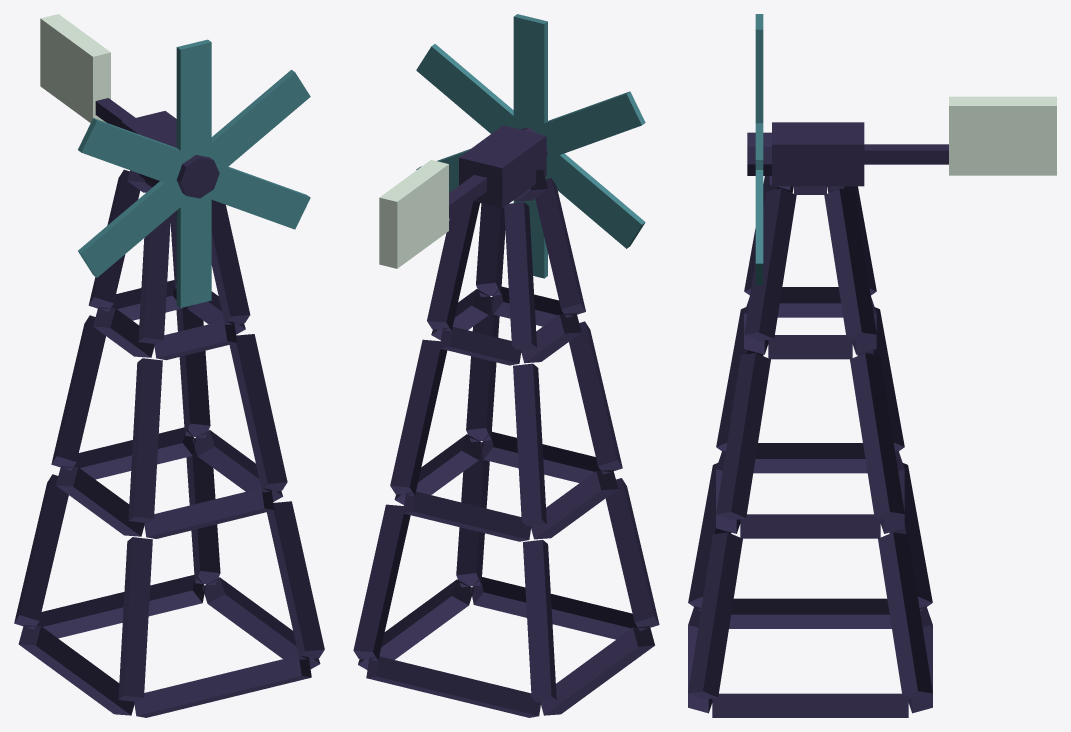
File: windpump.glb
3 views of the same model, side by side, from view 1: azimuth 30°, elevation 25°; view 2: azimuth 150°, elevation 25°; view 3: azimuth 270°, elevation 25° (orthographic). The views are drawn at different scales.
Visible parts, largest first — view 1: Tower, Rotor, Vane, Gearbox, Boom; view 2: Tower, Rotor, Vane, Gearbox, Boom; view 3: Tower, Vane, Gearbox, Rotor, Boom.
Part boxes in pixels (bbox=[...]): Tower: bbox=[14, 169, 324, 717]; Rotor: bbox=[78, 39, 310, 307]; Vane: bbox=[40, 14, 110, 122]; Gearbox: bbox=[121, 111, 176, 185]; Boom: bbox=[95, 98, 135, 127]; Tower: bbox=[353, 169, 659, 717]; Rotor: bbox=[416, 14, 645, 278]; Vane: bbox=[379, 160, 448, 268]; Gearbox: bbox=[459, 125, 546, 208]; Boom: bbox=[449, 175, 486, 218]; Tower: bbox=[688, 176, 932, 717]; Vane: bbox=[949, 96, 1056, 175]; Gearbox: bbox=[772, 122, 864, 186]; Rotor: bbox=[747, 14, 771, 284]; Boom: bbox=[864, 144, 948, 164].
Bounding box in the file's own units: 1.77 × 4.66 × 2.39.
